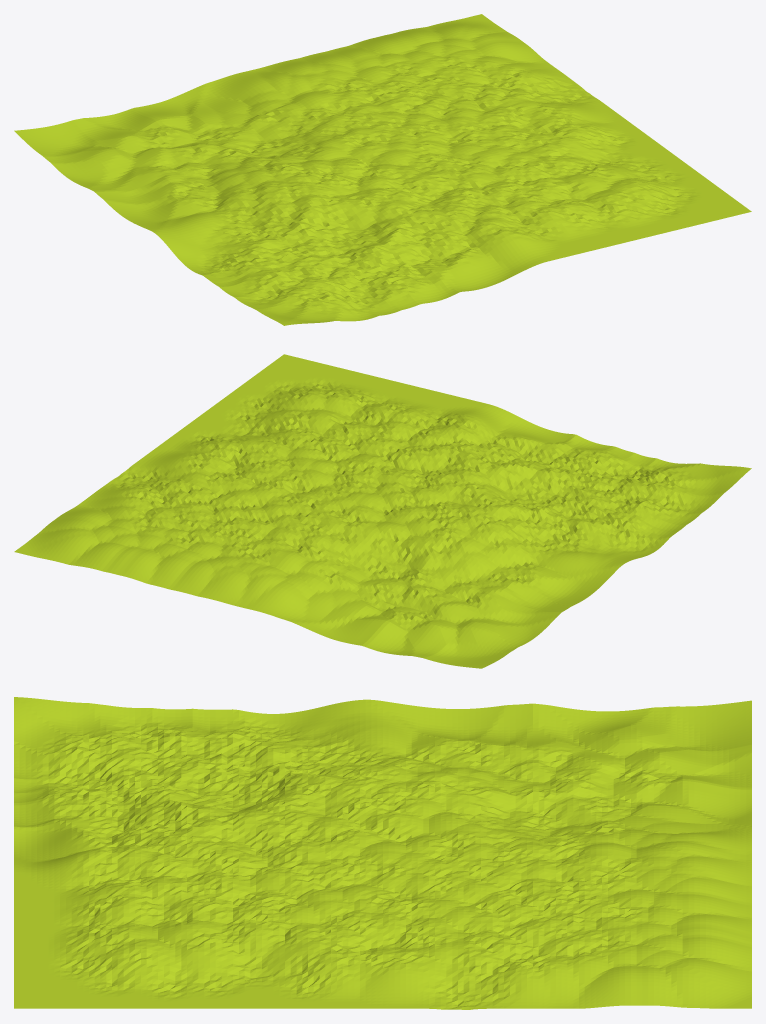
Rendered from FlatTerain01.fbx.
The picture shows the model from 3 angles, top to bottom: view 1: azimuth 30°, elevation 25°; view 2: azimuth 150°, elevation 25°; view 3: azimuth 270°, elevation 25°; orthographic projection. The views are drawn at different scales.
Visible parts, largest first — view 1: Plane; view 2: Plane; view 3: Plane.
Boxes of the visible parts, x1=… form: Plane: x1=14, y1=14, x2=751, y2=325; Plane: x1=14, y1=354, x2=751, y2=668; Plane: x1=14, y1=697, x2=751, y2=1009.
Size of the model in its own units: 12800 by 679 by 12800.
